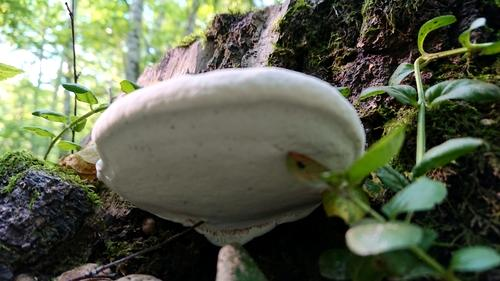Ganoderma - Fruit Body: (93, 61, 366, 237)
